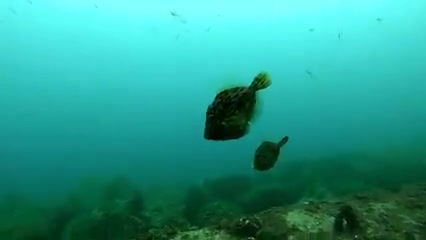kawahagi: (199, 73, 276, 141), (249, 136, 292, 173)
